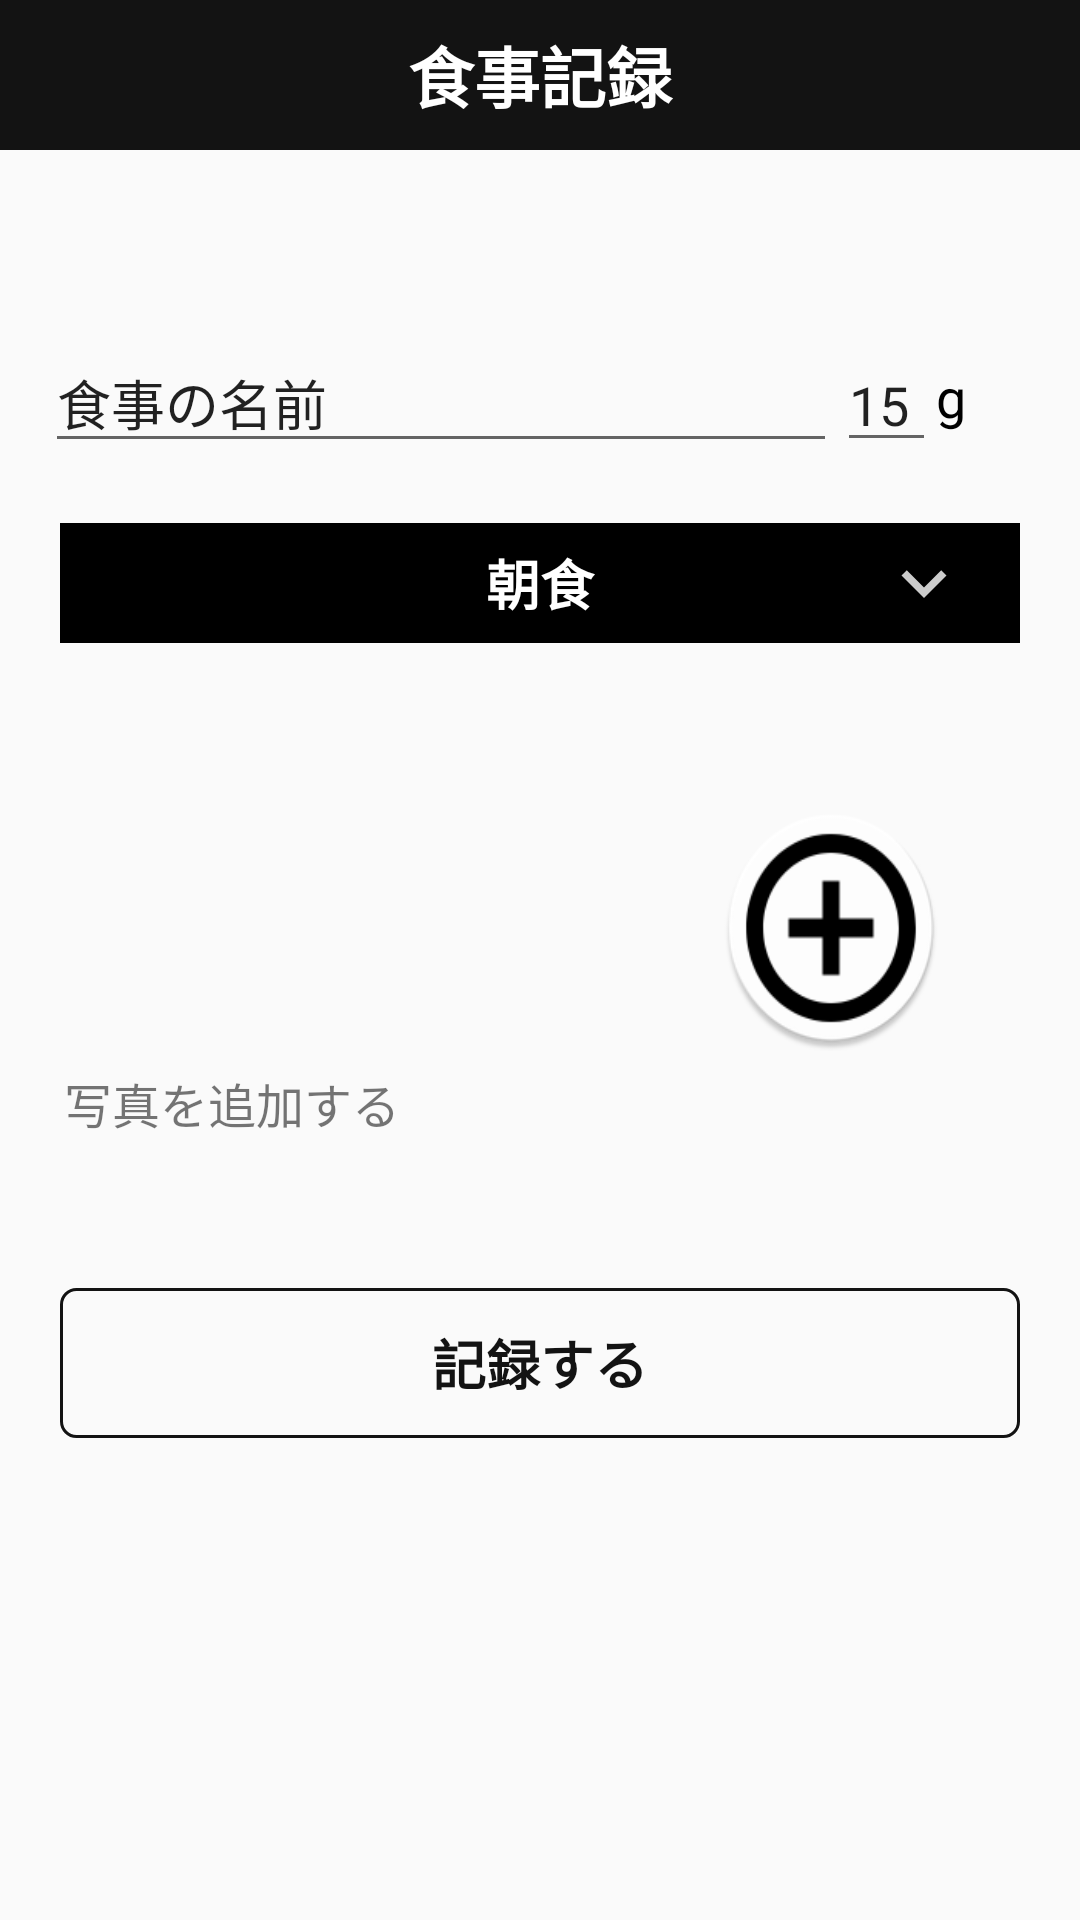

Locate icon controls on the screen. Image size 1080 × 1920, boxes as (x1, y1, x2, y2).
food add: (731, 833, 934, 1047)
